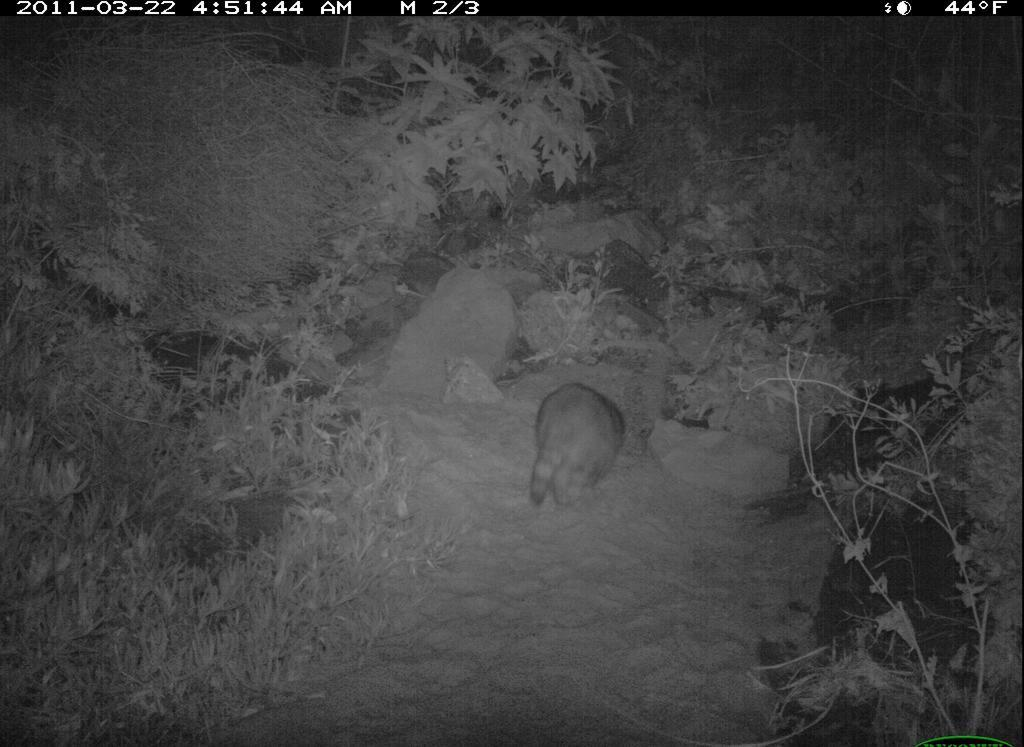raccoon: (520, 376, 635, 519)
